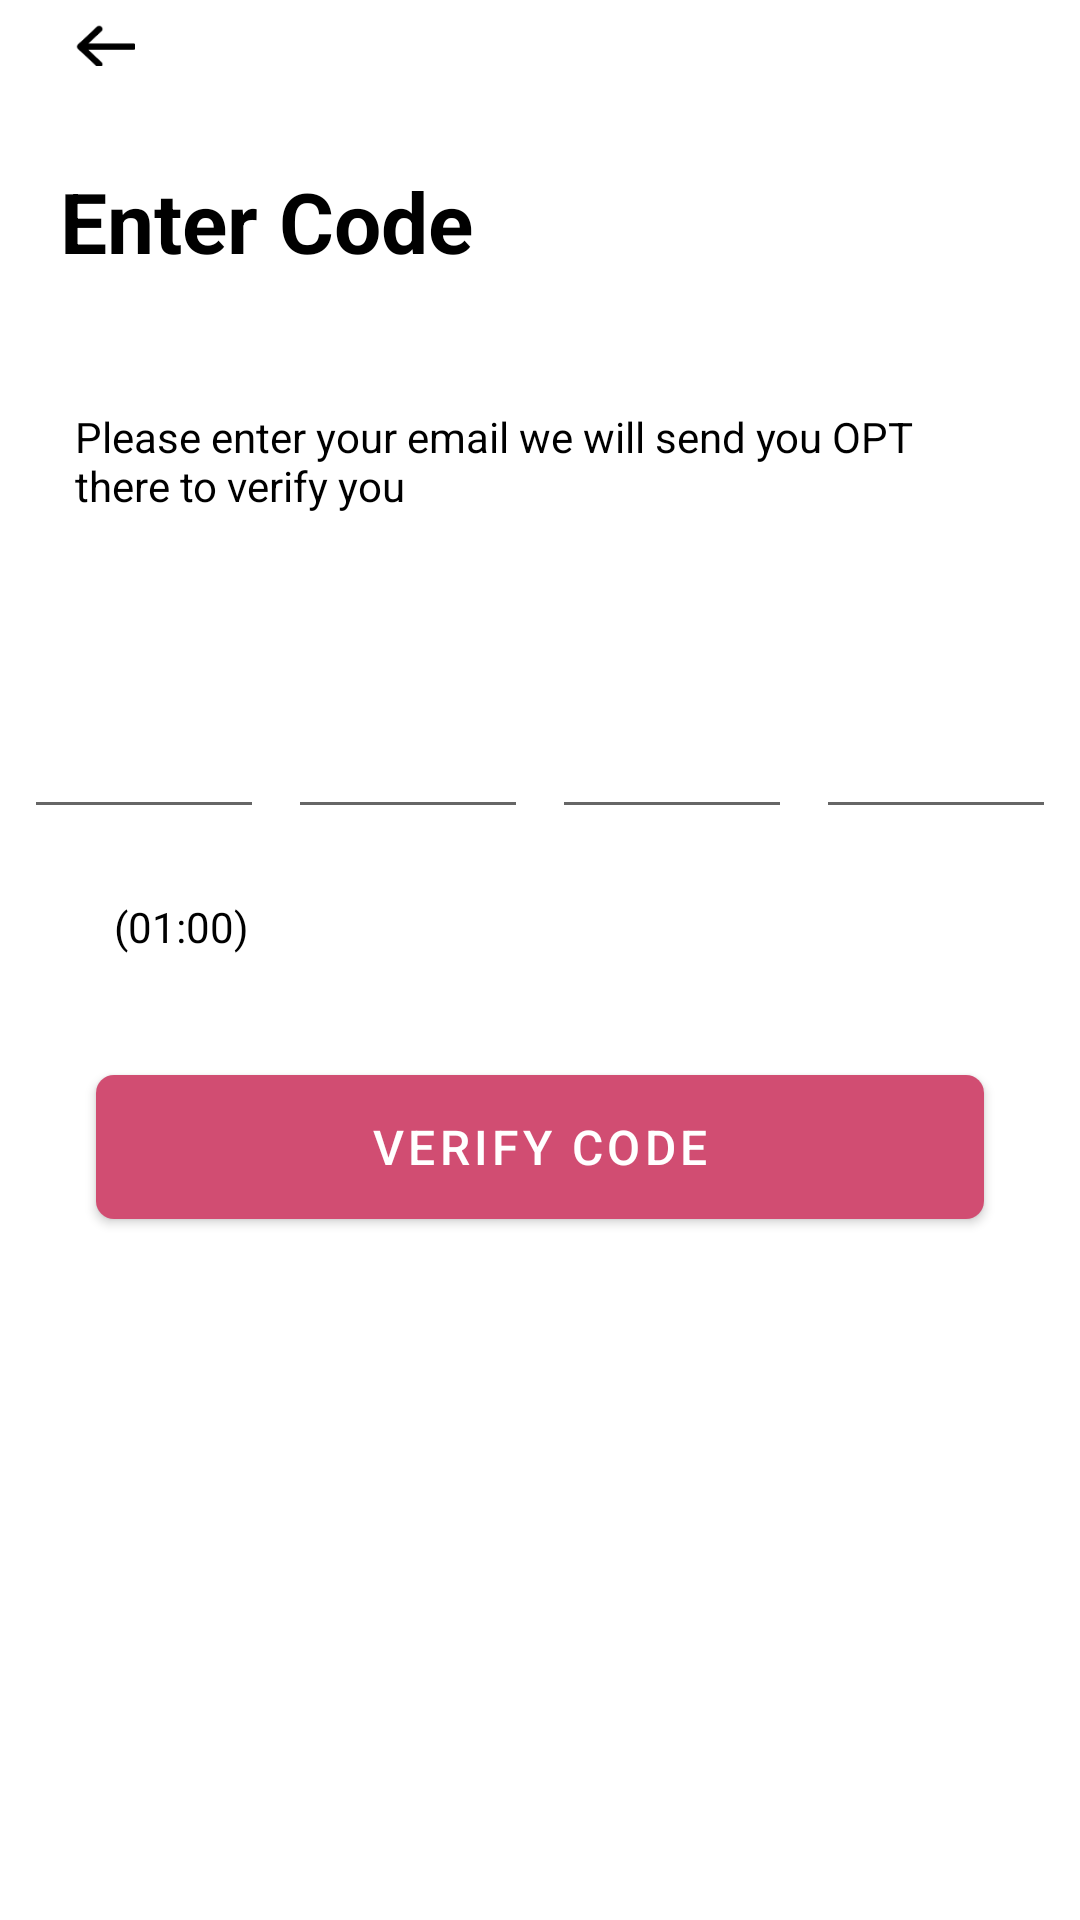

Icons on this 1080px x 1920px Android screen, each with its box as bbox=[x1, y1, x2, y2]:
backbtn: bbox=[76, 25, 135, 66]
